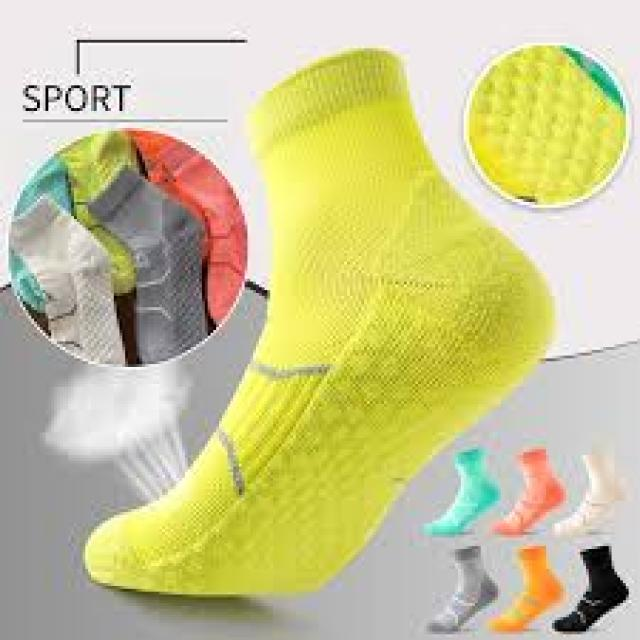sock: (80, 45, 554, 598)
